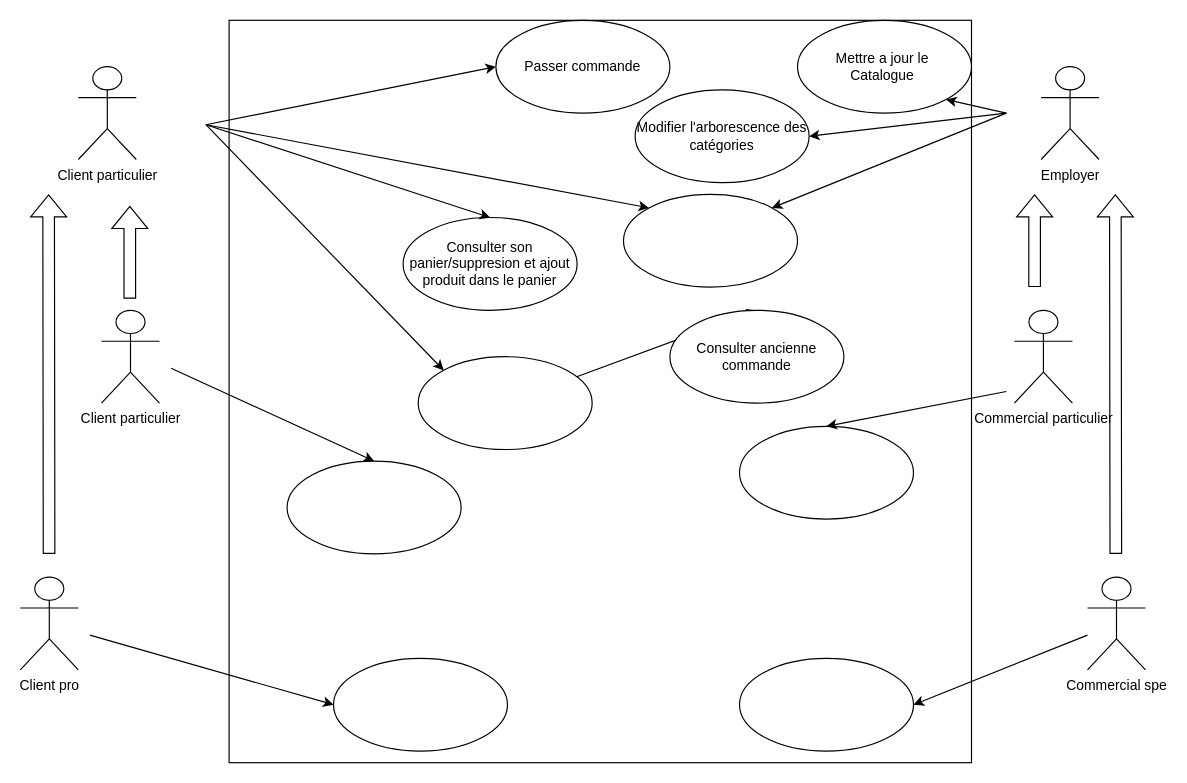
The diagram is 1187 pixels wide and 783 high, and some of its shapes have lost their labels. The centre of each missing label's shape, as x and y in pixels:
"Paye en temps que particulier" belongs at point (373, 507).
"Paye en temps que professionnel" belongs at point (419, 704).
"S'occupe des client particulier" belongs at point (825, 472).
"S'occupe des client pro" belongs at point (825, 704).
"Se connecter a son compte/ deconnexion" belongs at point (504, 402).
"Voir le catalogue" belongs at point (710, 240).
